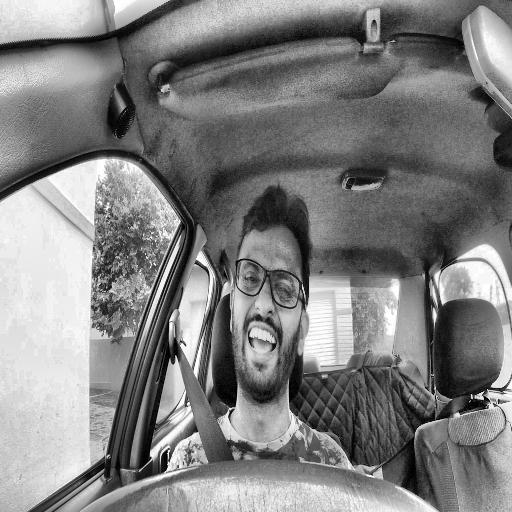awake: (228, 188, 310, 406)
